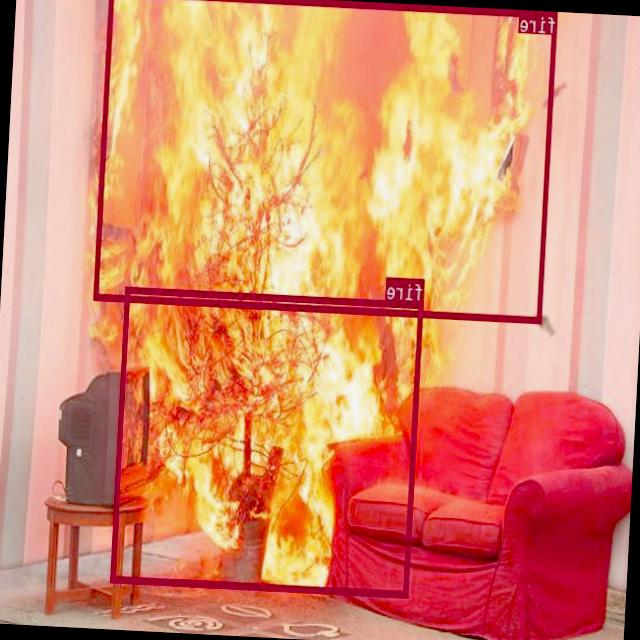fire: (95, 0, 558, 321), (112, 286, 424, 596)
